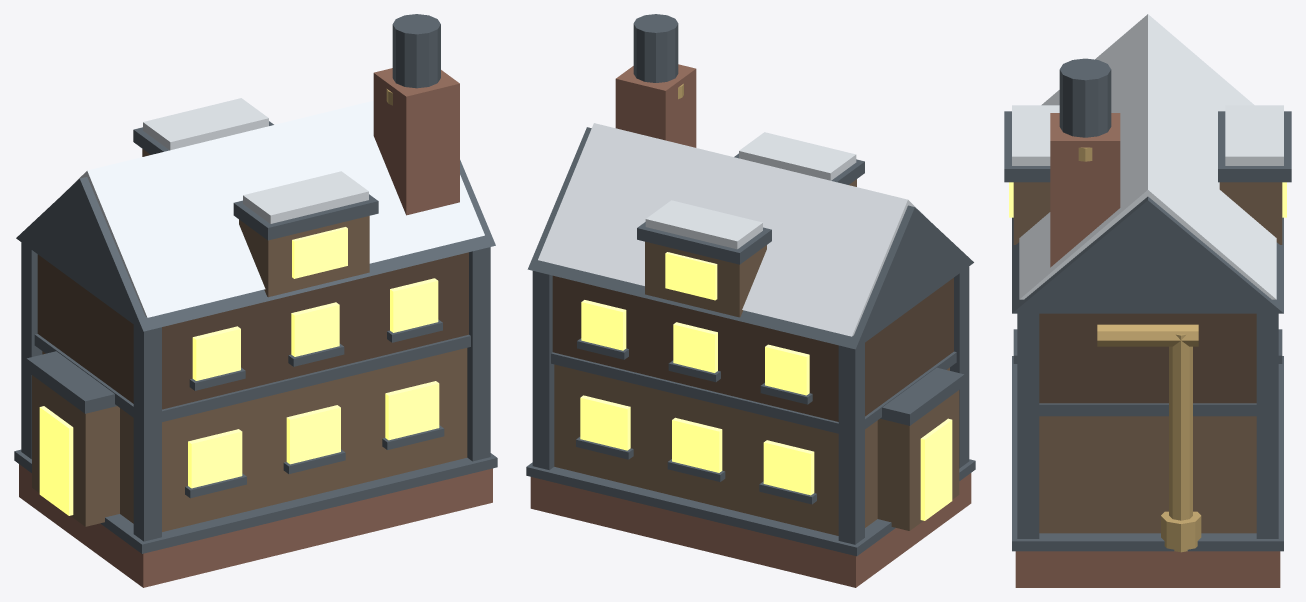
Rendered from house.glb.
The picture shows the model from 3 angles, left to right: view 1: azimuth 30°, elevation 25°; view 2: azimuth 150°, elevation 25°; view 3: azimuth 270°, elevation 25°; orthographic projection. The views are drawn at different scales.
Parts seen in each view (by area): view 1: House; view 2: House; view 3: House.
Boxes of the visible parts, x1=… form: House: x1=14, y1=14, x2=497, y2=587; House: x1=526, y1=14, x2=975, y2=587; House: x1=1004, y1=14, x2=1291, y2=587.
Bounding box in the file's own units: 2.34 × 2.68 × 1.4.
